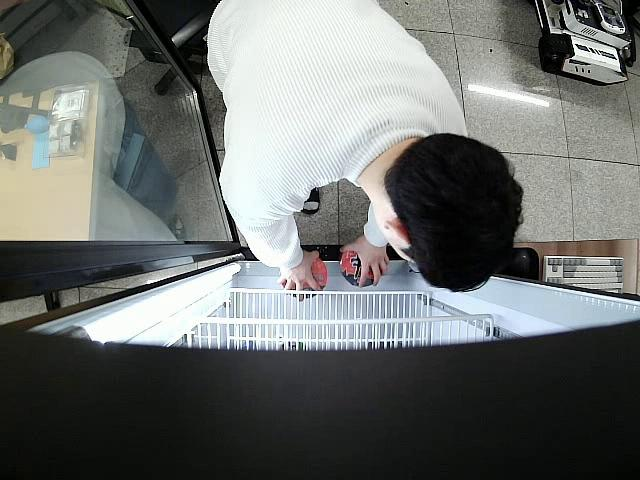00_hand: (338, 234, 392, 289), (276, 249, 324, 301)
01_shinRamen_L: (279, 254, 329, 297), (338, 248, 383, 287)
